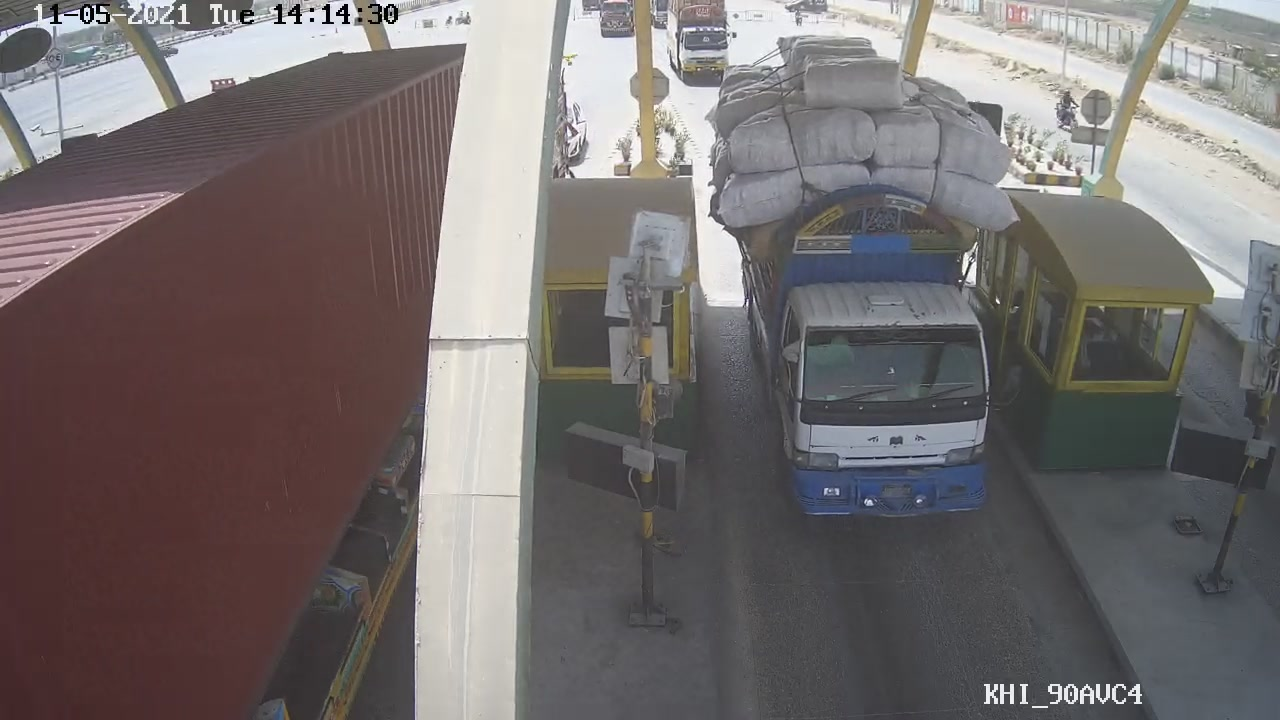F5: (707, 36, 1021, 529)
